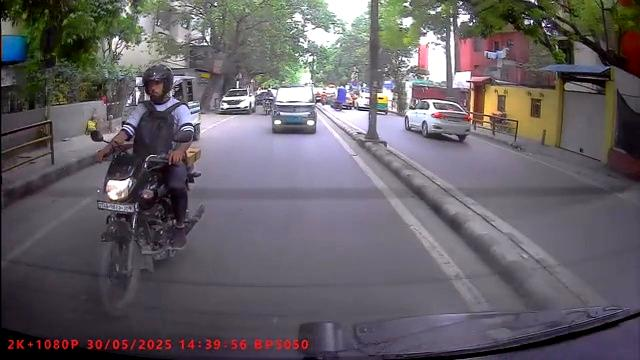motorcycle_with_helmet: (89, 60, 205, 316)
